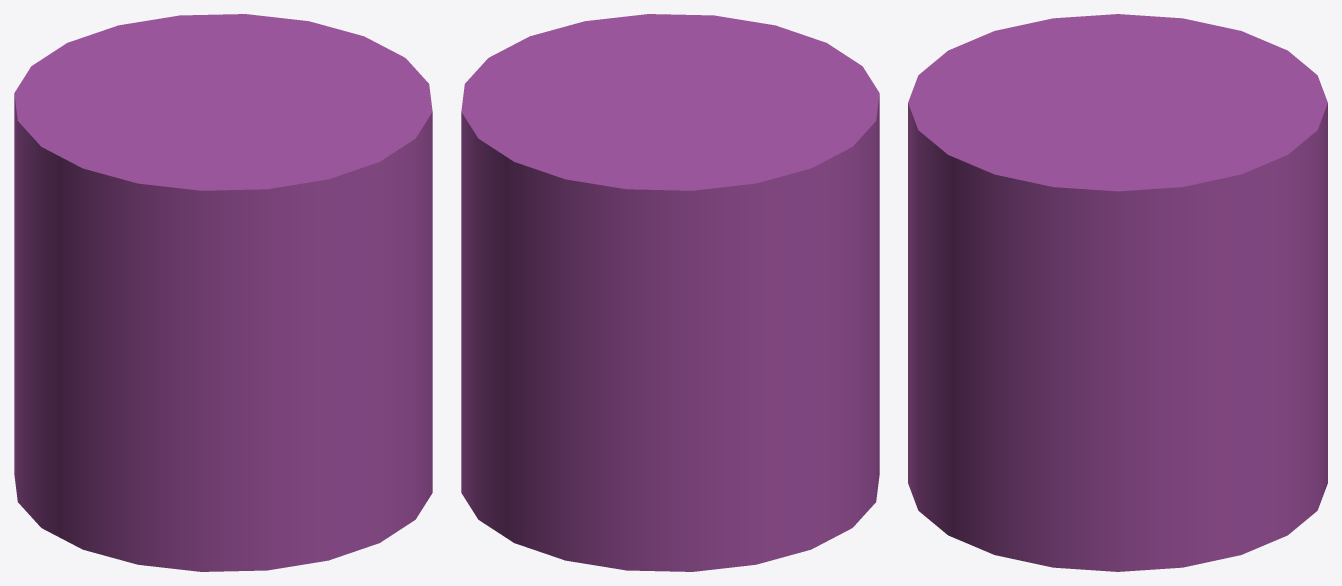
File: Colum.fbx
3 views of the same model, side by side, from view 1: azimuth 30°, elevation 25°; view 2: azimuth 150°, elevation 25°; view 3: azimuth 270°, elevation 25° (orthographic).
Parts seen in each view (by area): view 1: pCylinder6; view 2: pCylinder6; view 3: pCylinder6.
Boxes of the visible parts, left/top/right/bottom form: pCylinder6: left=14, top=14, right=432, bottom=571; pCylinder6: left=461, top=14, right=879, bottom=571; pCylinder6: left=908, top=14, right=1327, bottom=571.
Size of the model in its own units: 0.00118 by 0.00118 by 0.00118.
